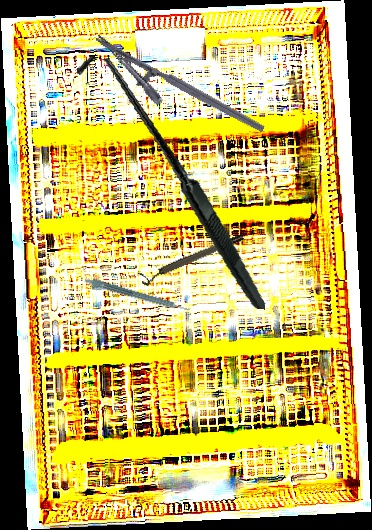Fixation Ring: (138, 231, 247, 288)
Handpiece: (82, 276, 191, 318)
Hook Surgical: (47, 55, 297, 310)
Needle Holder: (82, 33, 266, 156)
